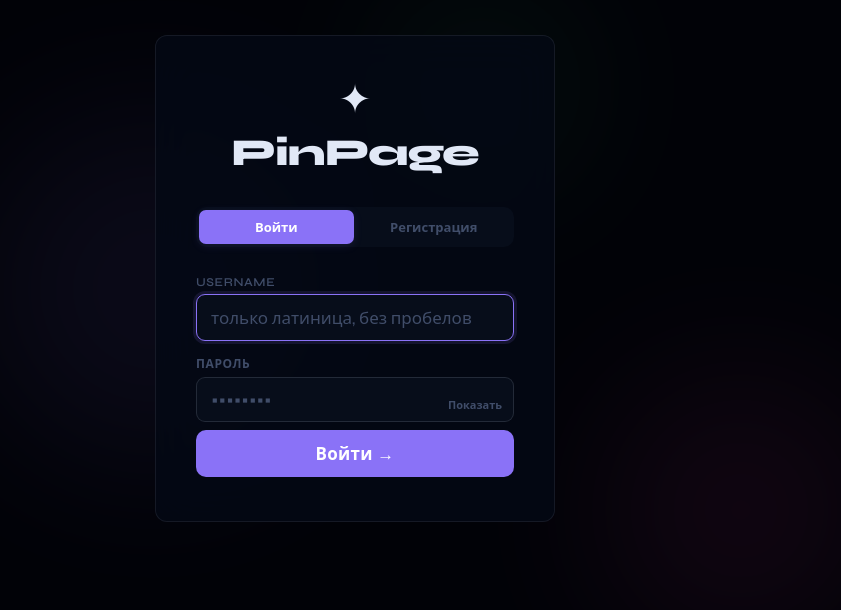
Test: вход и регистрация › неверный пароль → ошибка
expect the button "Войти →" is shown: met, box [196,430,514,476]
Type "nova" into the field with placeholder "только латиница, без пробелов" at x=355, y=317, box [196,294,514,340]
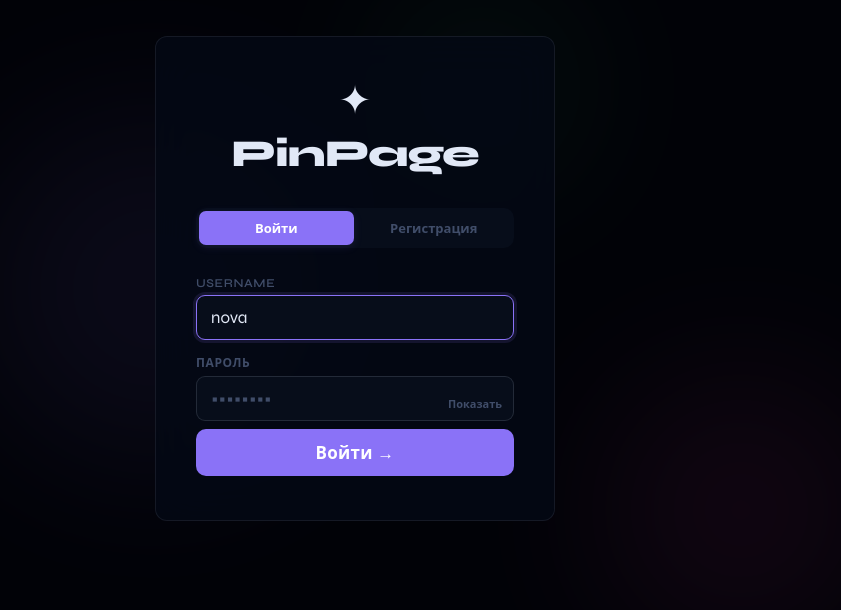
Type "bad" into the password field with placeholder "••••••••" at x=355, y=398, box [196,376,514,420]
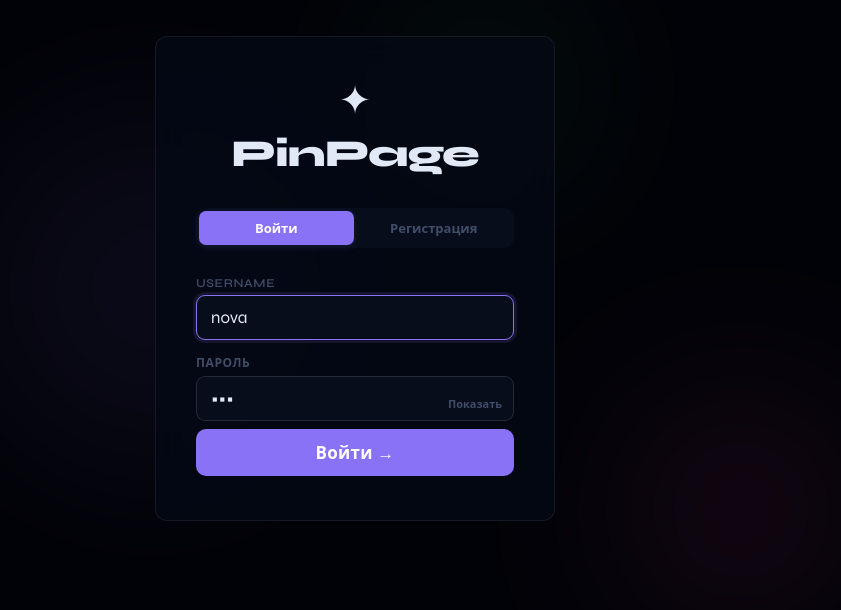
Click the button "Войти →" at x=355, y=452, box [196,428,514,476]
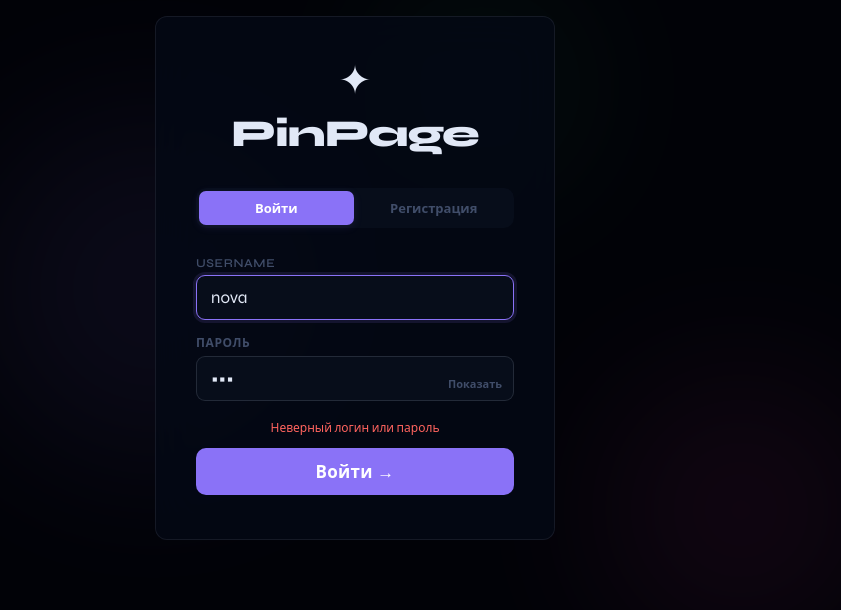
expect the message reads "Неверный логин или пароль": met, box [270,421,440,435]
